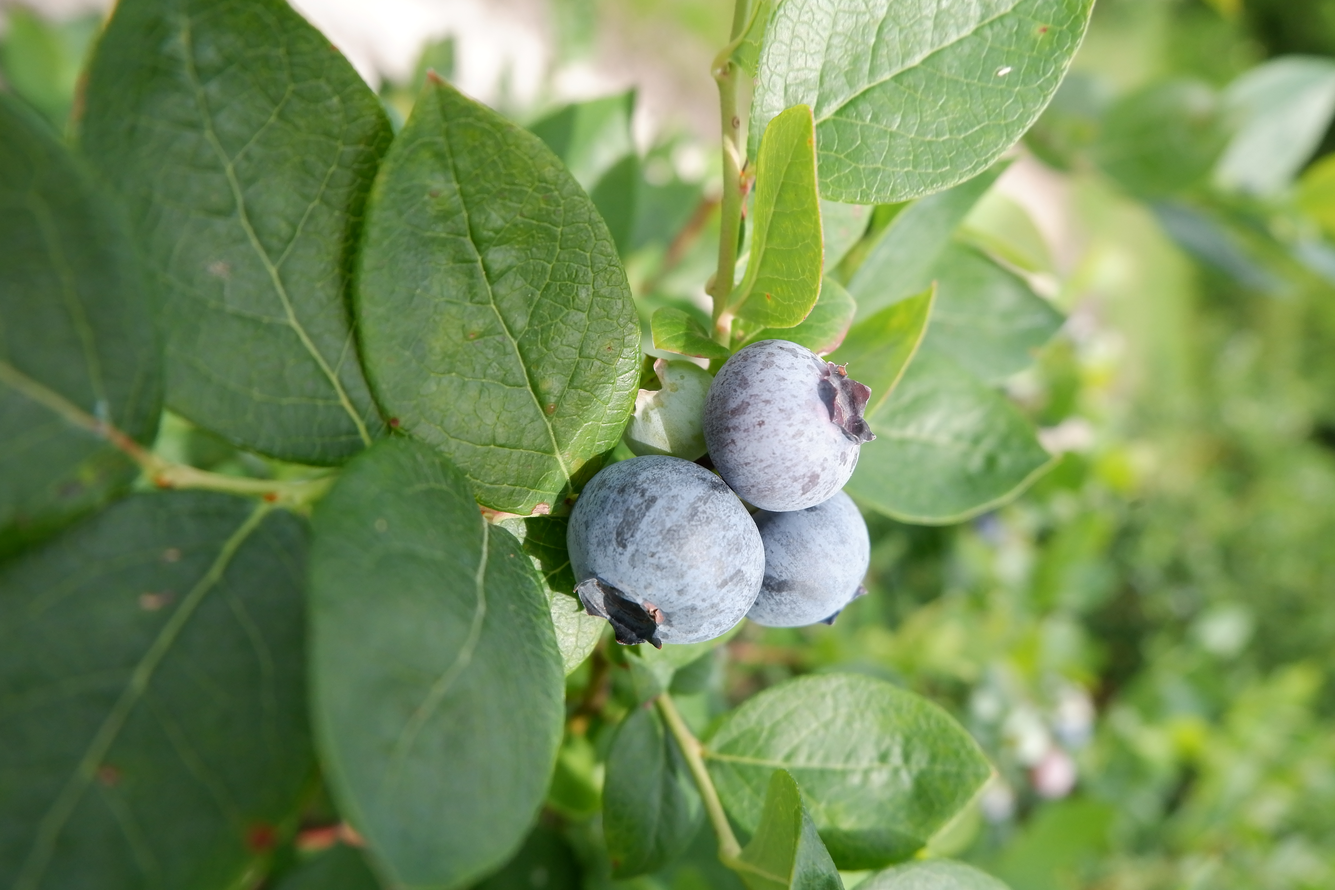Immature: (628, 354, 710, 460)
Mature: (572, 457, 762, 642), (702, 344, 870, 509), (752, 496, 867, 625)
